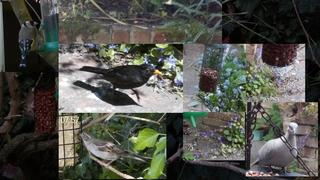blackbird: (79, 64, 163, 105)
collared dove: (250, 122, 298, 174)
goldfinch: (18, 20, 39, 68)
mouse: (22, 92, 35, 117)
sparrow: (79, 131, 146, 170)
